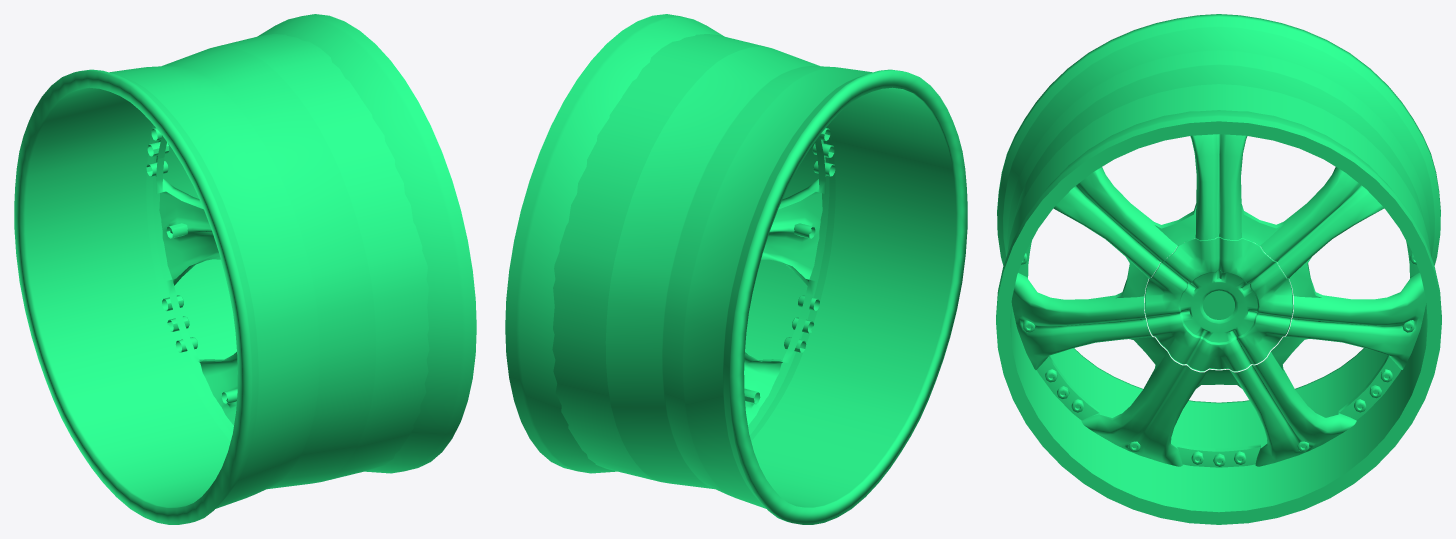
File: tis02.fbx
The picture shows the model from 3 angles, left to right: view 1: azimuth 30°, elevation 25°; view 2: azimuth 150°, elevation 25°; view 3: azimuth 270°, elevation 25°; orthographic projection. The views are drawn at different scales.
Parts seen in each view (by area): view 1: tis02; view 2: tis02; view 3: tis02.
Part boxes in pixels (x1,y1,x2,y2): tis02: [14, 14, 476, 524]; tis02: [505, 14, 967, 524]; tis02: [996, 14, 1441, 524].
Bounding box in the file's own units: 1412 × 2483 × 2484.
